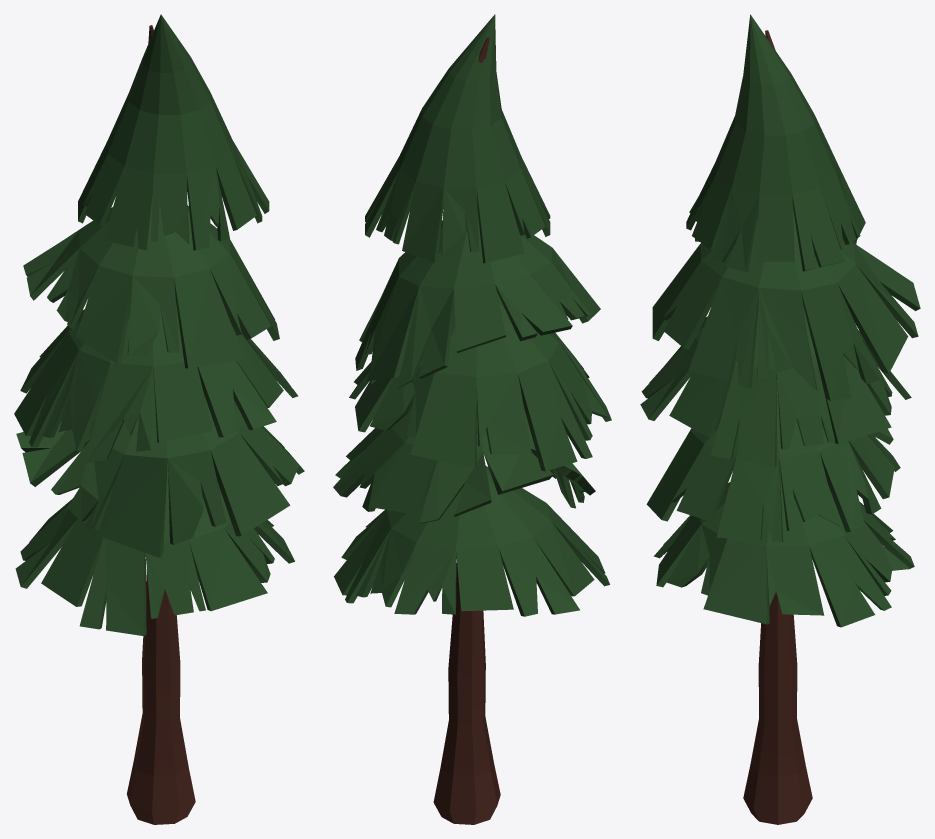
The model's file is SM_tree_conifer_05.fbx.
3 renders of one model, left to right at view 1: azimuth 30°, elevation 25°; view 2: azimuth 150°, elevation 25°; view 3: azimuth 270°, elevation 25°, orthographic. The views are drawn at different scales.
Visible parts, largest first — view 1: Line118; view 2: Line118; view 3: Line118.
Boxes of the visible parts, <box> form: Line118: <box>14,14,304,824</box>; Line118: <box>333,14,611,824</box>; Line118: <box>640,14,920,824</box>.
Bounding box in the file's own units: 118 × 360 × 115.
